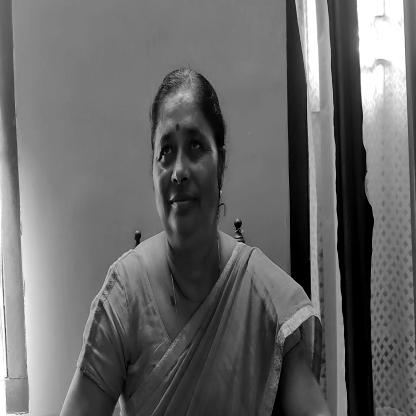Normal: (149, 74, 228, 248)
